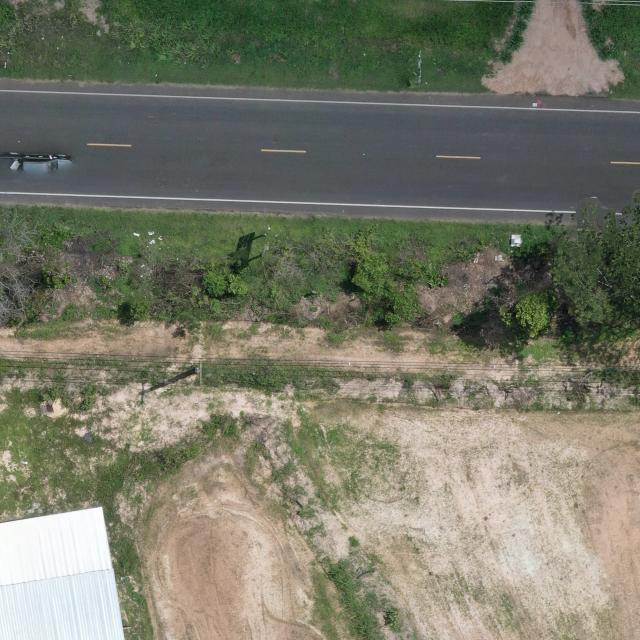Tree: (548, 189, 640, 330), (499, 292, 554, 339)
